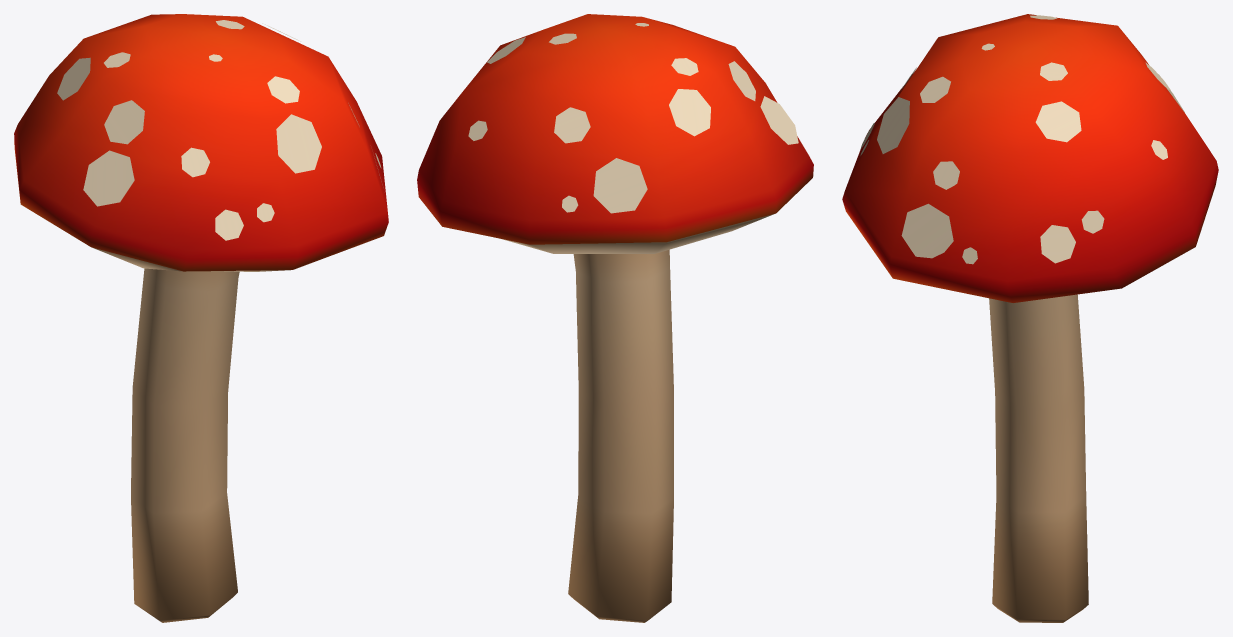
The model's file is SM_AmanitaMushroom_B.fbx.
3 renders of one model, left to right at view 1: azimuth 30°, elevation 25°; view 2: azimuth 150°, elevation 25°; view 3: azimuth 270°, elevation 25°, orthographic.
Visible parts, largest first — view 1: SM_AmanitaMushroom_B; view 2: SM_AmanitaMushroom_B; view 3: SM_AmanitaMushroom_B.
Part boxes in pixels (<box>): SM_AmanitaMushroom_B: <box>14,14,388,622</box>; SM_AmanitaMushroom_B: <box>417,14,813,622</box>; SM_AmanitaMushroom_B: <box>842,14,1218,622</box>.
Bounding box in the file's own units: 31.87 × 51.06 × 30.34.
